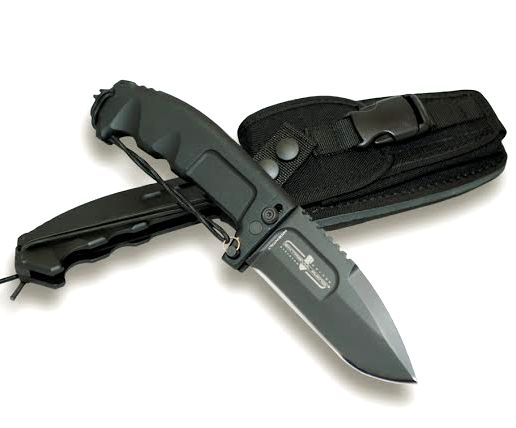knife: (230, 198, 423, 392)
